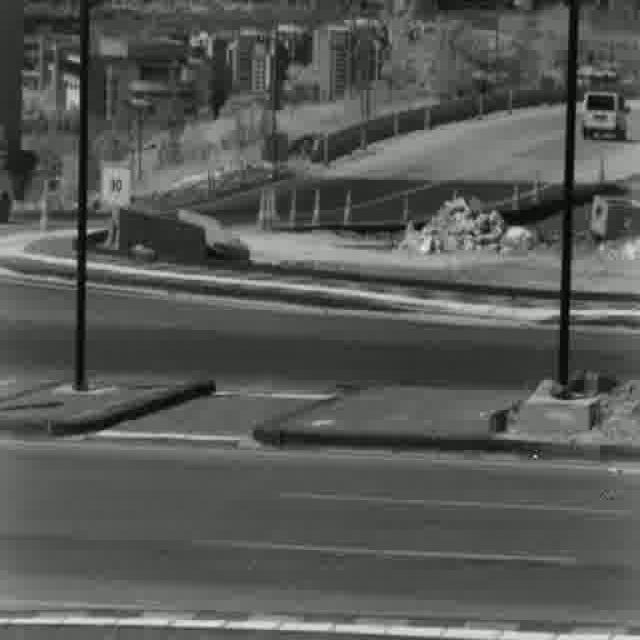Car: (583, 90, 630, 142)
